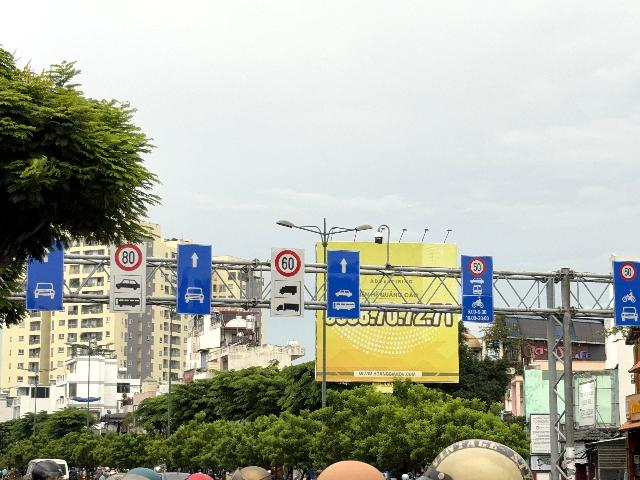toc-do-toi-da-cho-phep: (115, 242, 143, 271), (274, 250, 302, 276), (468, 257, 487, 276), (620, 262, 637, 281)
